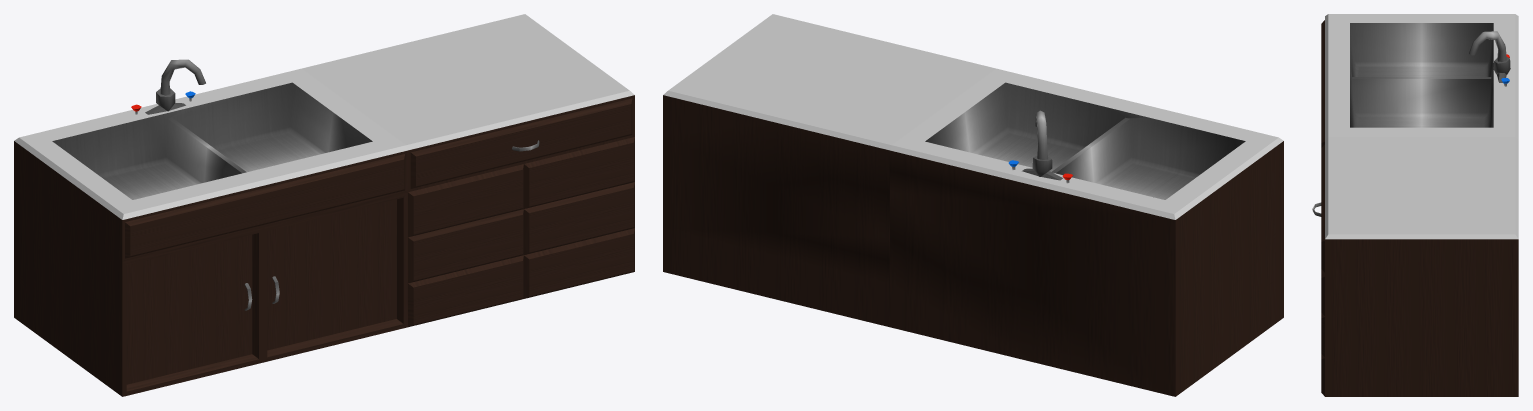
The model's file is Kitchen_Sink_A.FBX.
The picture shows the model from 3 angles, left to right: view 1: azimuth 30°, elevation 25°; view 2: azimuth 150°, elevation 25°; view 3: azimuth 270°, elevation 25°; orthographic projection. The views are drawn at different scales.
Parts seen in each view (by area): view 1: Kitchen_Sink; view 2: Kitchen_Sink; view 3: Kitchen_Sink.
Part boxes in pixels (x1,y1,x2,y2): Kitchen_Sink: (14,14,634,396); Kitchen_Sink: (663,14,1283,396); Kitchen_Sink: (1312,14,1518,396).
Size of the model in its own units: 409 by 179 by 160.
